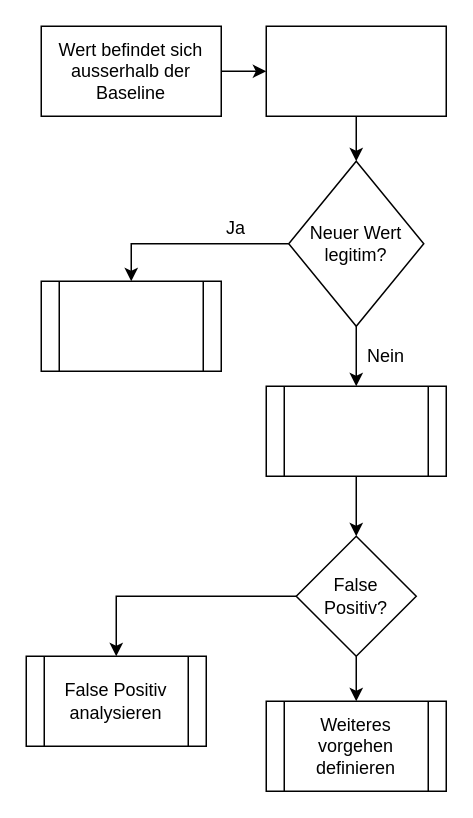
The diagram is 473 pixels wide and 818 high, and some of its shapes have lost their labels. The box of each missing label's shape, as (x1, y1, x2, y2) in pixels:
Administrator wird benachrichtig: (265, 25, 446, 116)
Anomalie analysieren: (265, 385, 446, 476)
Baseline anpassen: (40, 280, 221, 371)
